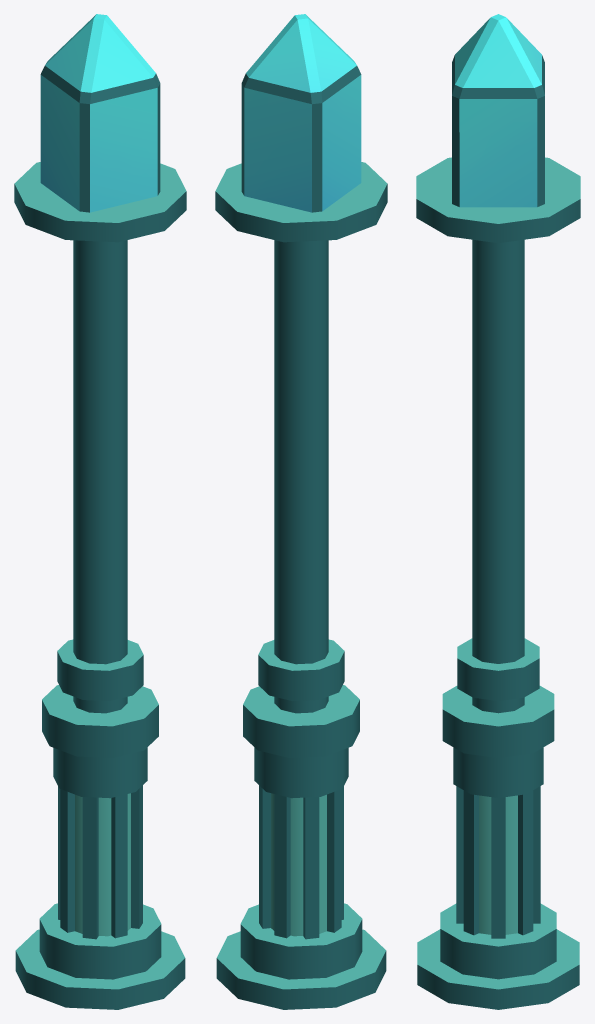
File: Street_light_2.fbx
3 views of the same model, side by side, from view 1: azimuth 30°, elevation 25°; view 2: azimuth 150°, elevation 25°; view 3: azimuth 270°, elevation 25° (orthographic).
Parts seen in each view (by area): view 1: Street_light_3; view 2: Street_light_3; view 3: Street_light_3.
Boxes of the visible parts, bbox=[...] form: Street_light_3: bbox=[14, 14, 186, 1009]; Street_light_3: bbox=[215, 14, 387, 1009]; Street_light_3: bbox=[416, 14, 580, 1009].
Bounding box in the file's own units: 92.21 × 563 × 87.7.
